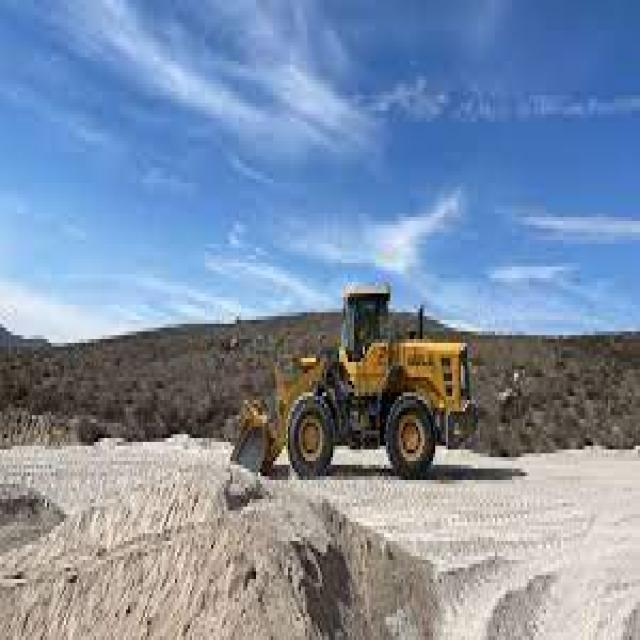buldozerpayloadergrader: (225, 280, 480, 500)
